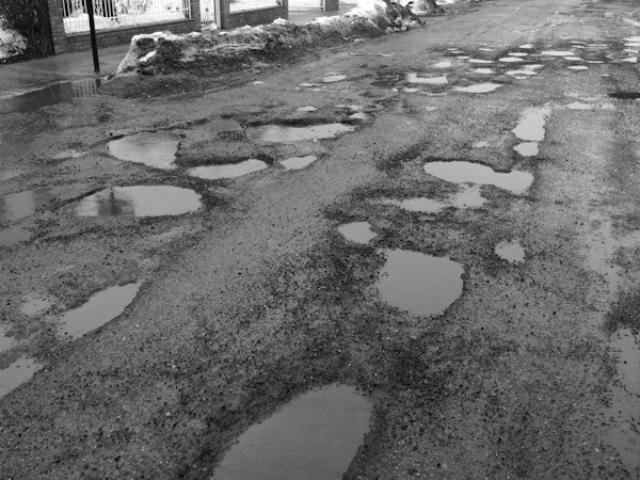Pothole: (191, 372, 443, 480), (0, 264, 156, 398), (98, 109, 368, 186), (329, 216, 471, 326), (394, 33, 640, 94), (414, 152, 554, 220), (52, 176, 220, 230), (0, 166, 91, 256), (504, 101, 568, 163), (602, 86, 640, 112)
